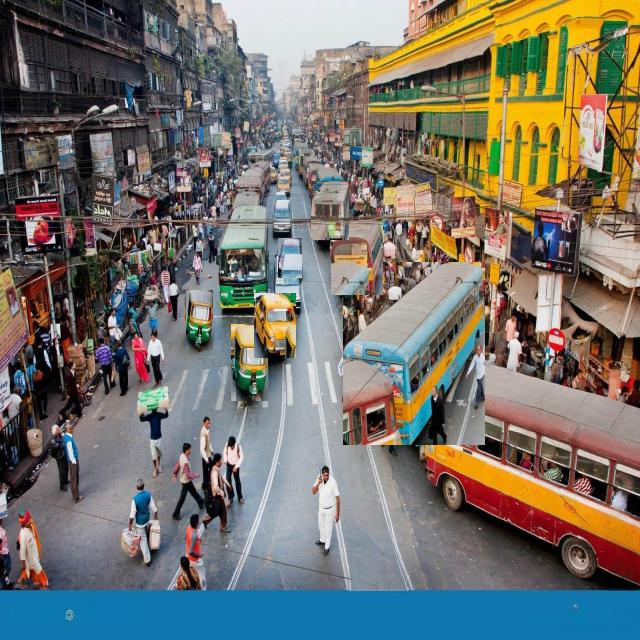autorickshaw: (231, 325, 268, 401), (186, 291, 212, 350)
bus: (425, 361, 640, 583), (343, 263, 484, 445), (219, 206, 269, 310), (331, 221, 382, 295), (311, 181, 349, 240)
car: (254, 294, 296, 358), (274, 254, 301, 313), (278, 238, 302, 278), (273, 200, 291, 235)
